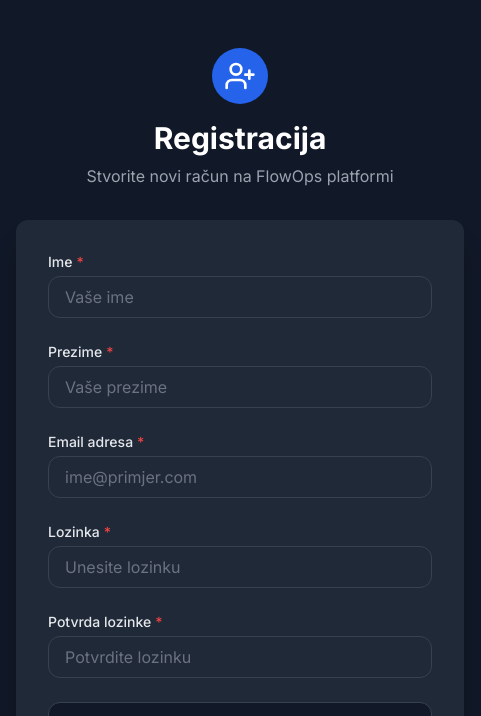
Test: RegisterPage › displays loading state during registration
Step 1. Type "Ivan" into the field with placeholder "Vaše ime" → coordinates (240, 297), box [48,276,432,318]
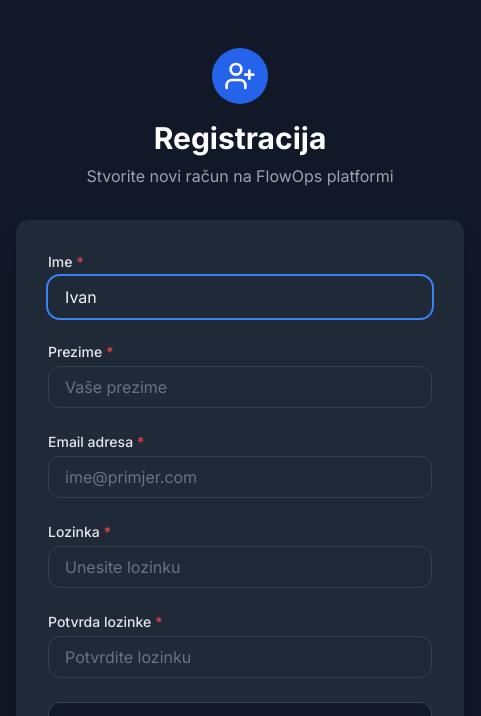
Step 2. Type "Horvat" into the field with placeholder "Vaše prezime" → coordinates (240, 387), box [48,366,432,408]
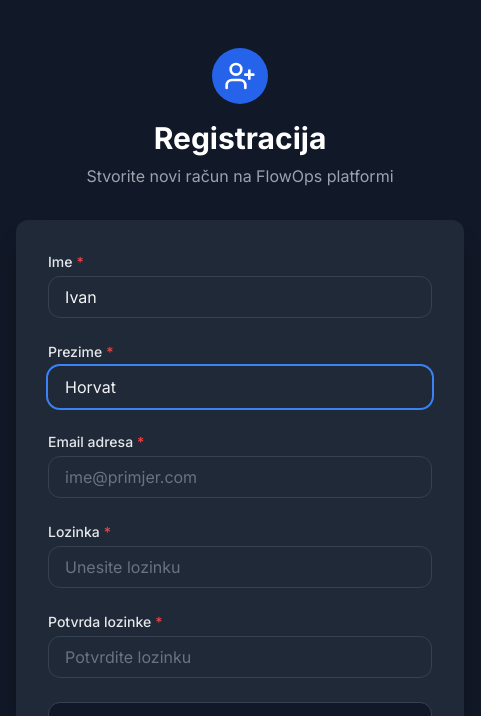
Step 3. Type "test@example.com" into the field labelled "Email adresa*" → coordinates (240, 477), box [48,456,432,498]
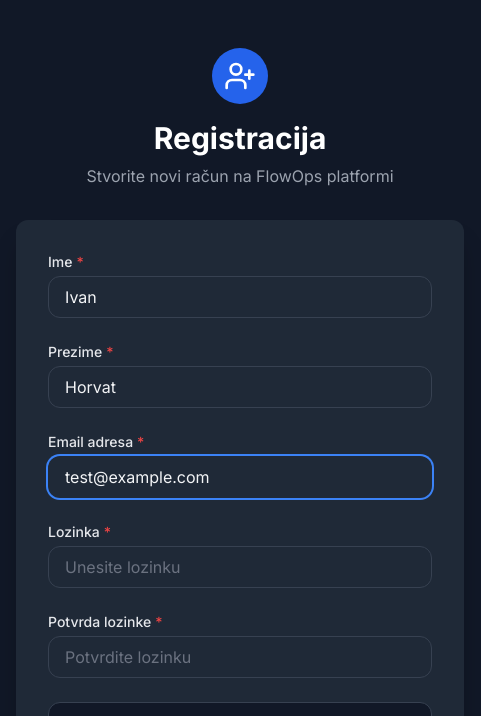
Step 4. Type "Password123" into the password field with placeholder "Unesite lozinku" → coordinates (240, 567), box [48,546,432,588]
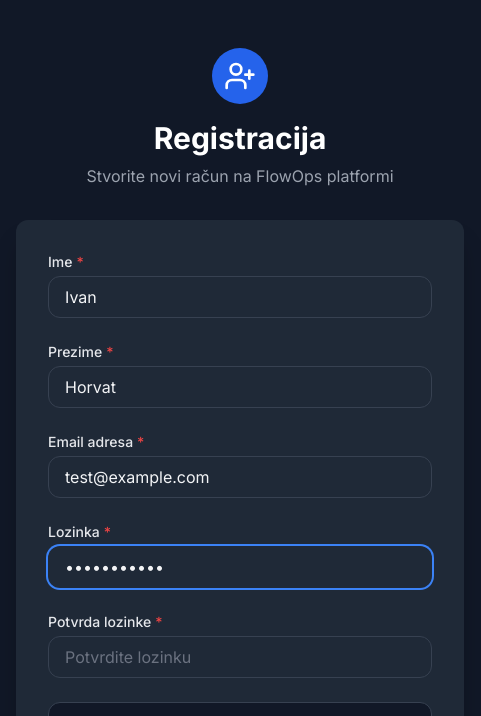
Step 5. Type "Password123" into the password field with placeholder "Potvrdite lozinku" → coordinates (240, 657), box [48,636,432,678]
(page scrolled)
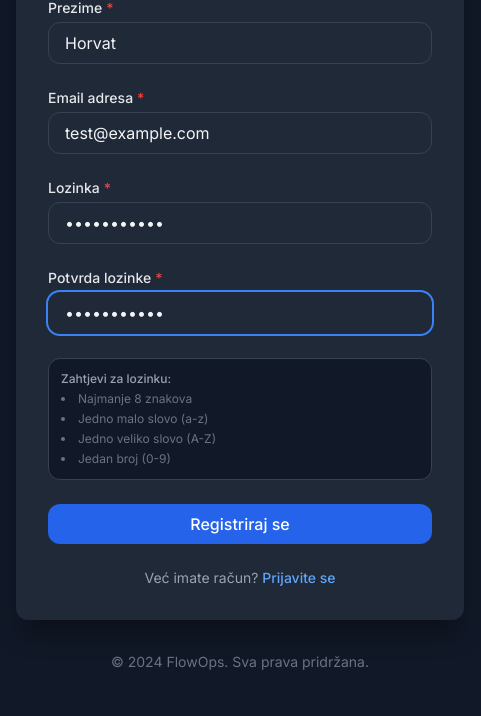
Step 6. Click the button "Registriraj se" → coordinates (240, 524), box [48,504,432,544]
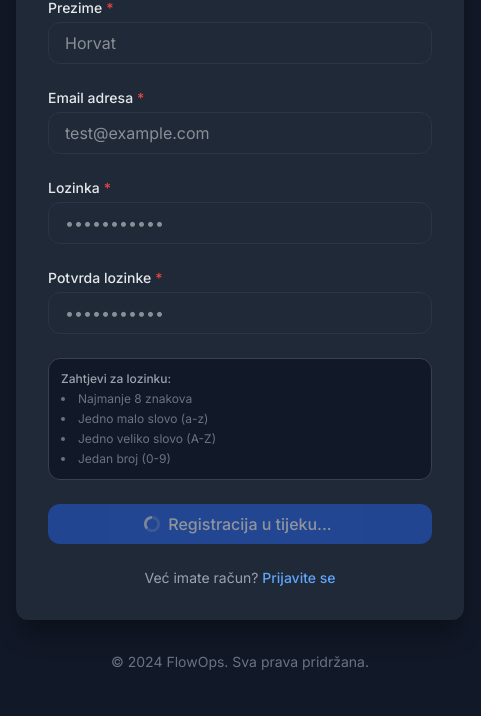
Check: the button "Registracija u tijeku..." is disabled, box [48,504,432,544]
